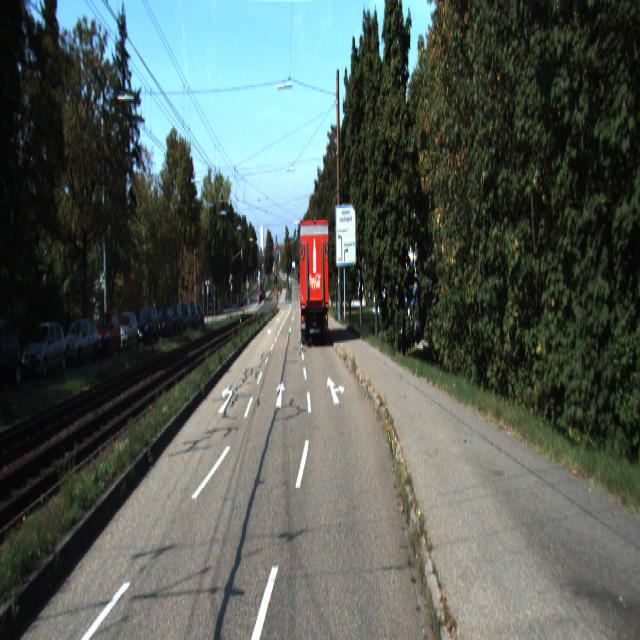Car: (298, 216, 330, 347), (21, 321, 68, 380), (59, 318, 100, 368), (0, 322, 25, 393), (94, 309, 122, 357), (116, 311, 139, 351)
